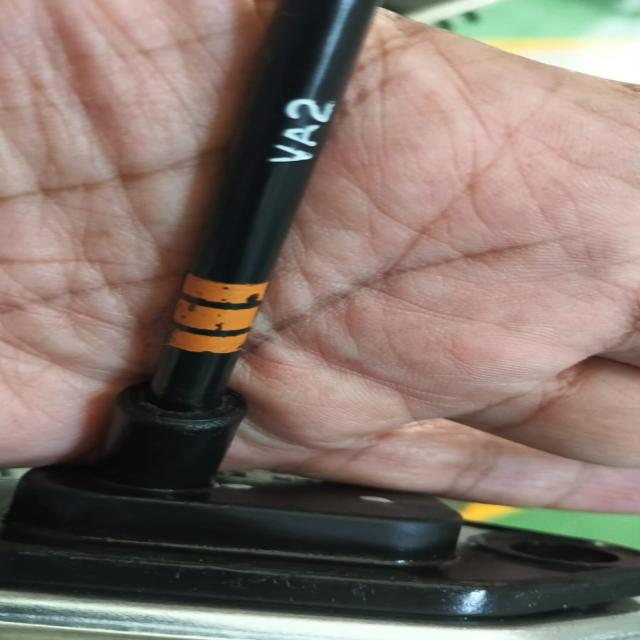orange: (181, 275, 246, 356)
